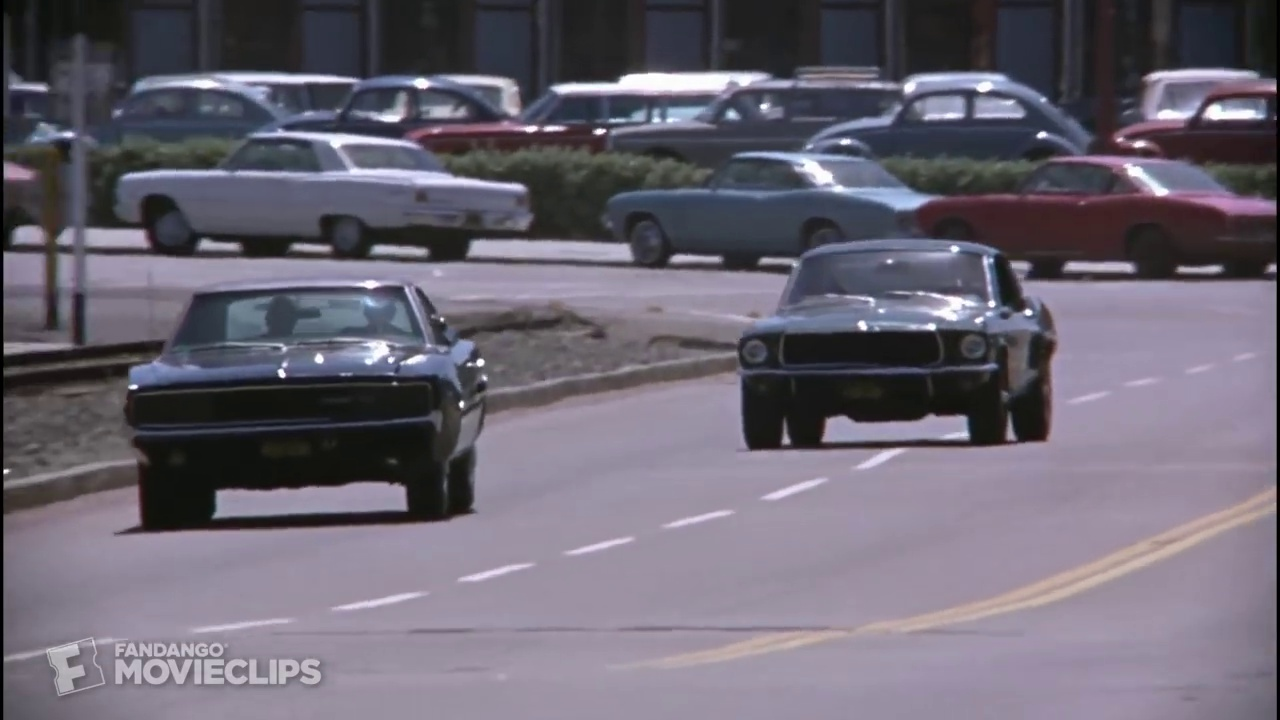car: (120, 274, 500, 529), (724, 229, 1071, 456), (106, 126, 547, 276), (918, 149, 1277, 283), (597, 147, 945, 276), (800, 61, 1099, 164), (391, 76, 745, 159), (583, 74, 909, 162), (247, 74, 515, 146), (50, 70, 284, 143), (1106, 74, 1277, 162)
